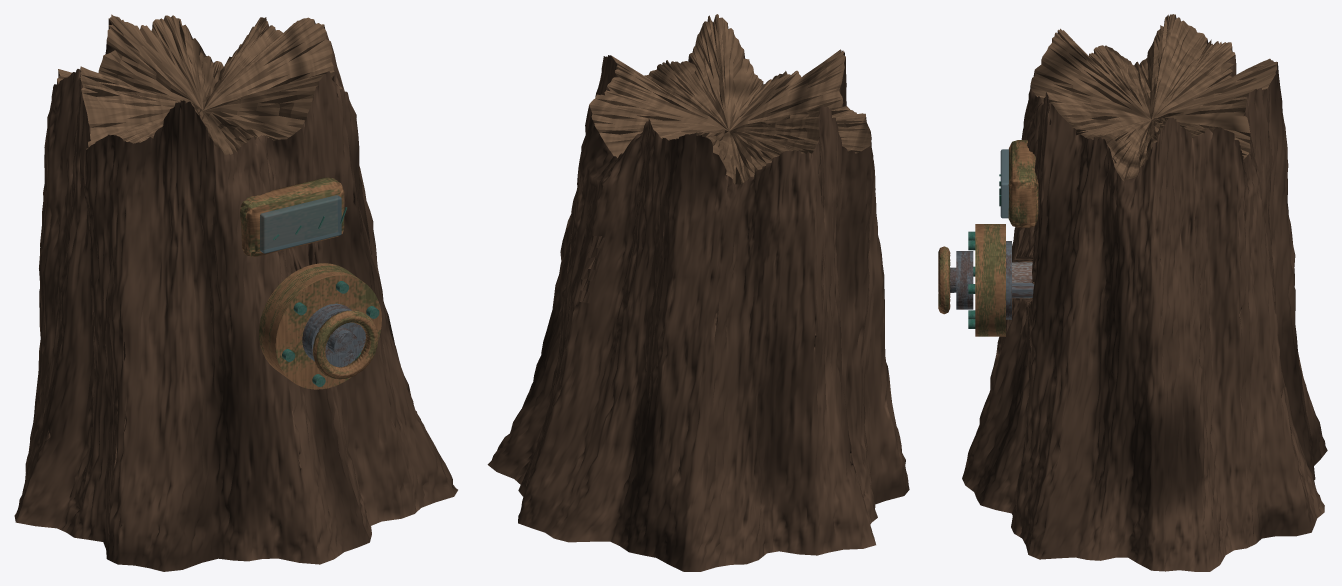
The model's file is hollow_trunk_pin.glb.
3 views of the same model, side by side, from view 1: azimuth 30°, elevation 25°; view 2: azimuth 150°, elevation 25°; view 3: azimuth 270°, elevation 25° (orthographic). The views are drawn at different scales.
Visible parts, largest first — view 1: Ancient trunk, Bronze keyway collar, Shaped plaque backing, Smoky glass plate, Twisted bronze pull loop, Pin head washer, Loop mounting stud; view 2: Ancient trunk; view 3: Ancient trunk, Bronze keyway collar, Shaped plaque backing, Pin head washer, Twisted bronze pull loop, Smoky glass plate.
Part boxes in pixels (box(x1,y1,x2,y2)): Ancient trunk: box(14, 14, 457, 571); Bronze keyway collar: box(259, 263, 381, 389); Shaped plaque backing: box(240, 177, 344, 256); Smoky glass plate: box(260, 195, 341, 253); Twisted bronze pull loop: box(313, 310, 378, 379); Pin head washer: box(302, 303, 365, 367); Loop mounting stud: box(327, 327, 357, 357); Ancient trunk: box(487, 14, 909, 571); Ancient trunk: box(962, 14, 1327, 571); Bronze keyway collar: box(975, 224, 1005, 336); Shaped plaque backing: box(1008, 140, 1038, 227); Pin head washer: box(956, 251, 973, 309); Twisted bronze pull loop: box(938, 246, 950, 314); Smoky glass plate: box(1000, 149, 1008, 218).
Size of the model in its own units: 1.83 by 1.98 by 1.7.
8 materials, 7 textured.
